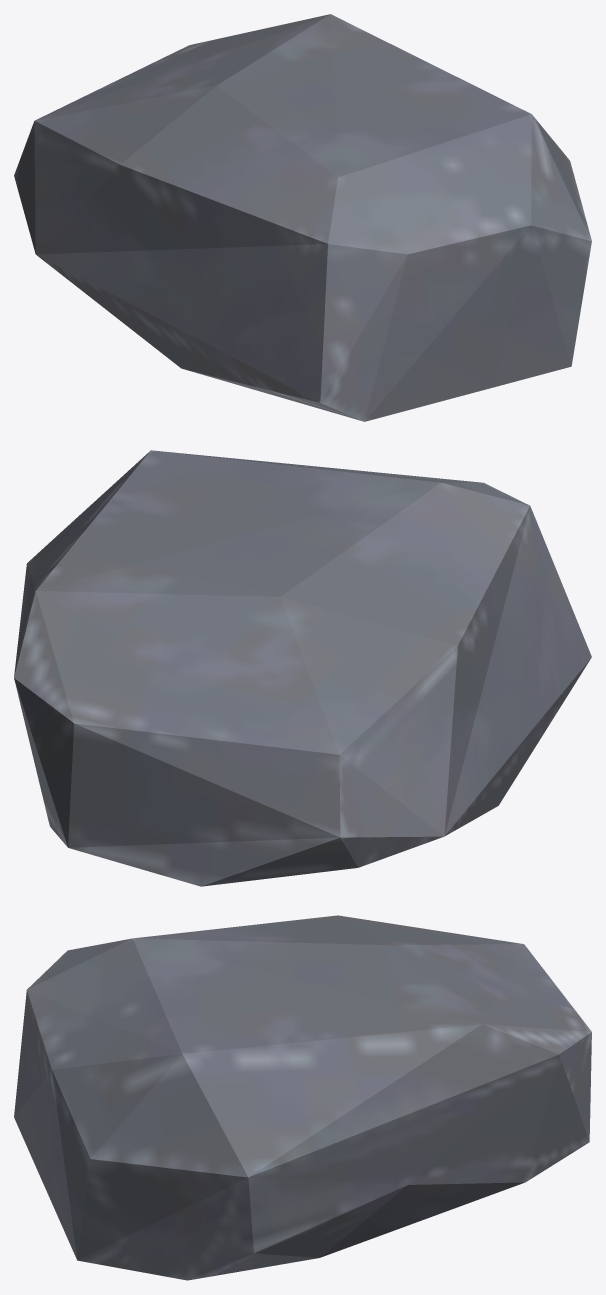
File: Rock_small.fbx
3 views of the same model, one above another, from view 1: azimuth 30°, elevation 25°; view 2: azimuth 150°, elevation 25°; view 3: azimuth 270°, elevation 25° (orthographic). The views are drawn at different scales.
Visible parts, largest first — view 1: rock_small_01; view 2: rock_small_01; view 3: rock_small_01.
Part boxes in pixels (x1=…): rock_small_01: x1=14, y1=14, x2=591, y2=421; rock_small_01: x1=14, y1=450, x2=591, y2=886; rock_small_01: x1=14, y1=915, x2=591, y2=1280.
Bounding box in the file's own units: 532 × 273 × 598.
